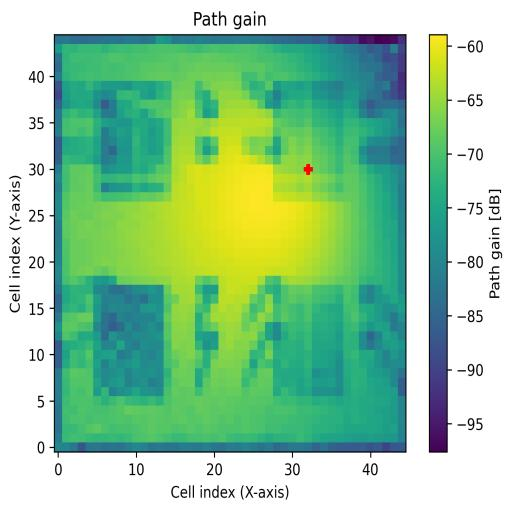Concrete: (274, 81, 344, 201)
Glass: (94, 81, 172, 202)
Metal: (274, 285, 344, 397)
Wood: (93, 285, 164, 396)
